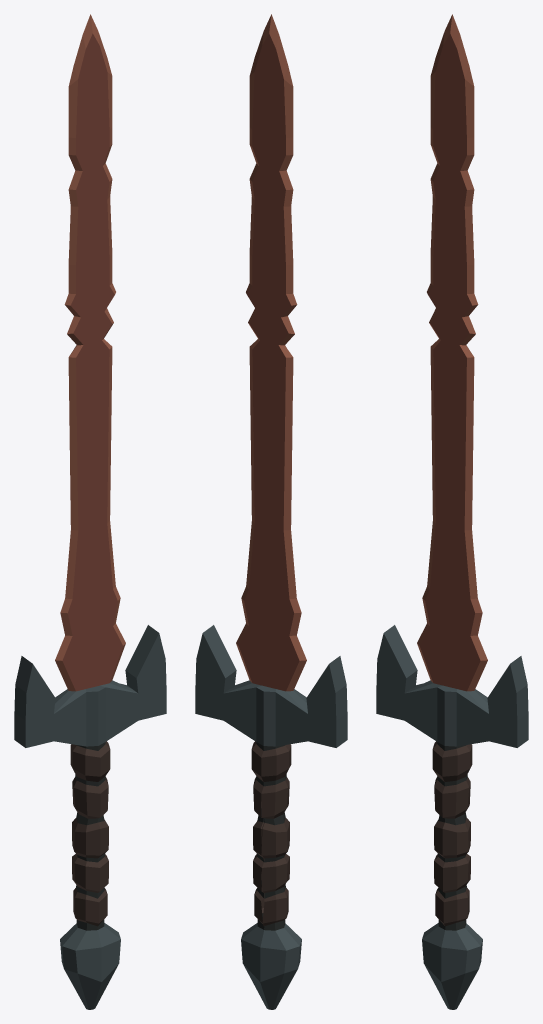
Rendered from sword-long-grip.glb.
The picture shows the model from 3 angles, left to right: view 1: azimuth 30°, elevation 25°; view 2: azimuth 150°, elevation 25°; view 3: azimuth 330°, elevation 25°; orthographic projection.
Visible parts, largest first — view 1: sword-long-grip runtime mesh; view 2: sword-long-grip runtime mesh; view 3: sword-long-grip runtime mesh.
Boxes of the visible parts, box(x1,y1,x2,y2) form: sword-long-grip runtime mesh: box(14, 14, 166, 1009); sword-long-grip runtime mesh: box(195, 14, 347, 1009); sword-long-grip runtime mesh: box(376, 14, 528, 1009).
Bounding box in the file's own units: 0.2002 × 1.35 × 0.0555.
